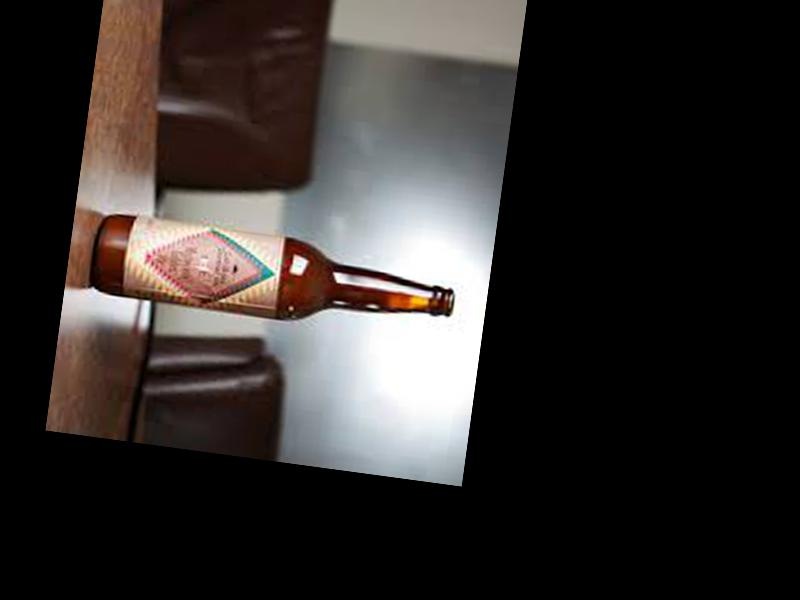Beer: (89, 214, 456, 340)
